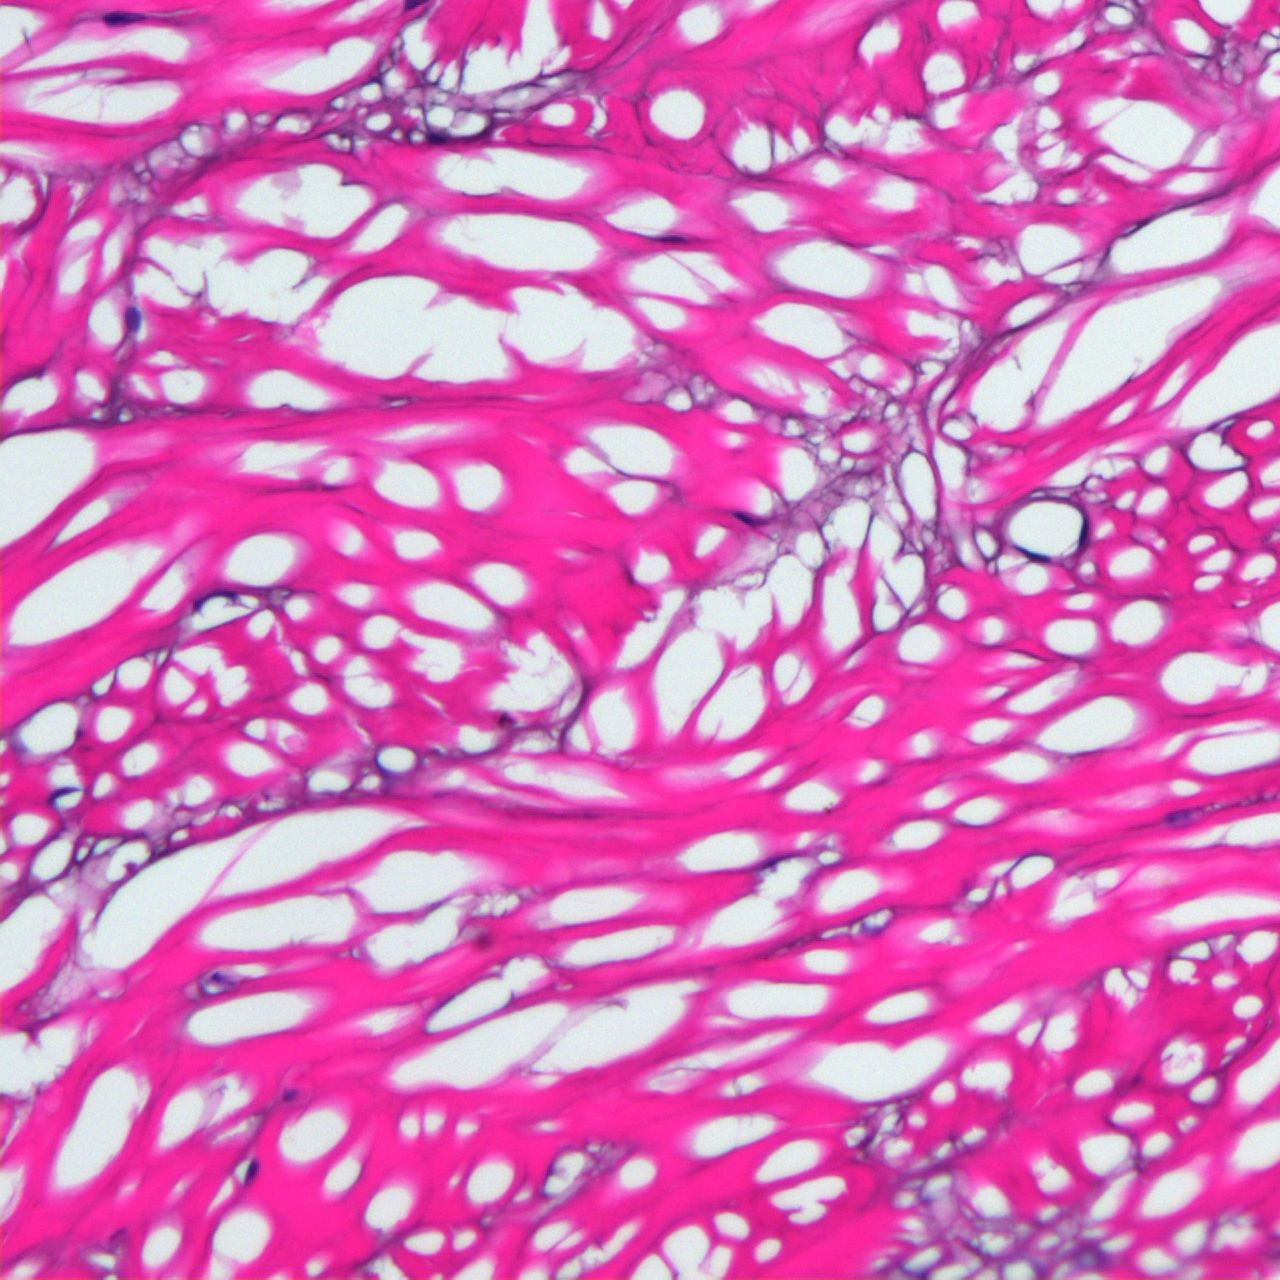nucleus-HE: (102, 11, 142, 23), (243, 1156, 261, 1180), (125, 306, 139, 332)
